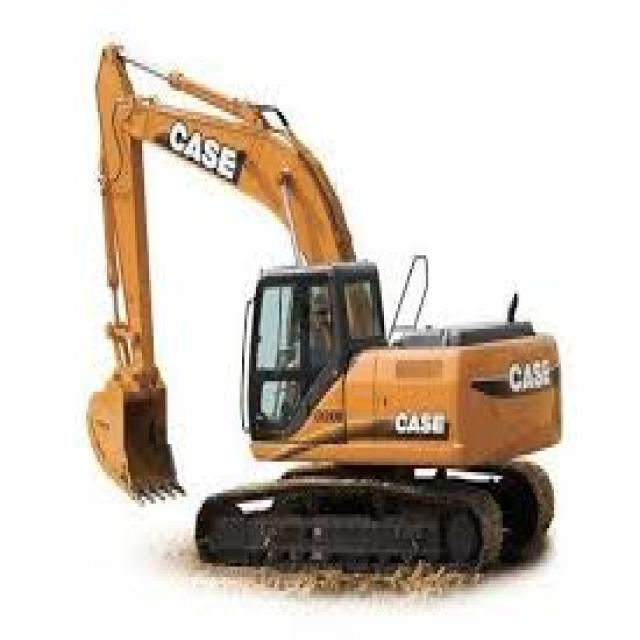excavator: (200, 250, 562, 586)
